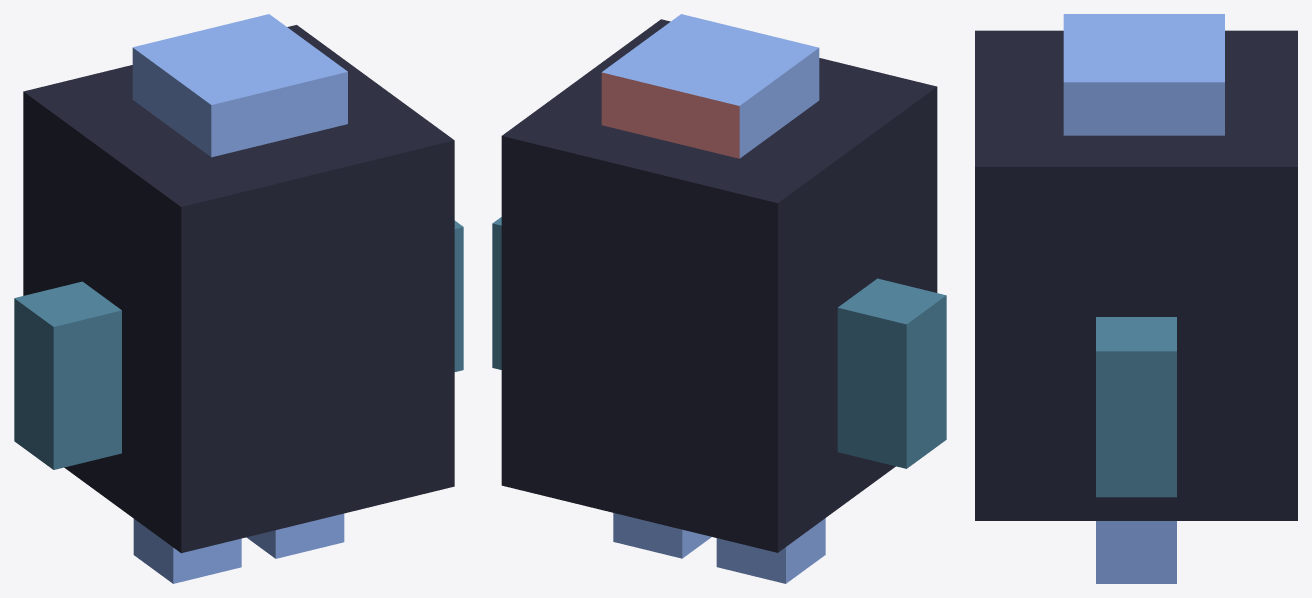
The model's file is character.gltf.
The picture shows the model from 3 angles, left to right: view 1: azimuth 30°, elevation 25°; view 2: azimuth 150°, elevation 25°; view 3: azimuth 270°, elevation 25°; orthographic projection. The views are drawn at different scales.
Visible parts, largest first — view 1: torso.001, head.001, right_arm.001, right_leg.001, left_leg.001, left_arm.001; view 2: torso.001, head.001, right_arm.001, right_leg.001, left_leg.001, left_arm.001; view 3: torso.001, head.001, left_arm.001, left_leg.001.
Part boxes in pixels (x1,y1,x2,y2): torso.001: [23, 25, 454, 553]; head.001: [132, 14, 347, 157]; right_arm.001: [14, 281, 121, 469]; right_leg.001: [133, 519, 241, 583]; left_leg.001: [246, 513, 344, 558]; left_arm.001: [454, 220, 463, 371]; torso.001: [501, 19, 937, 552]; head.001: [601, 14, 819, 158]; right_arm.001: [837, 278, 946, 468]; right_leg.001: [716, 518, 825, 583]; left_leg.001: [613, 513, 711, 558]; left_arm.001: [492, 217, 501, 369]; torso.001: [975, 30, 1297, 520]; head.001: [1063, 14, 1224, 135]; left_arm.001: [1096, 317, 1176, 497]; left_leg.001: [1096, 521, 1176, 583].
Size of the model in its own units: 0.375 by 0.4238 by 0.25.
1 material, 1 textured.
